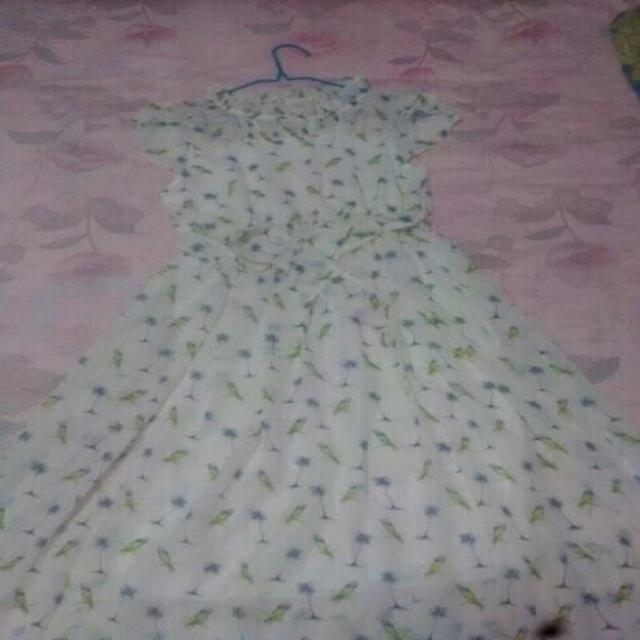short sleeve dress: (4, 80, 636, 637)
